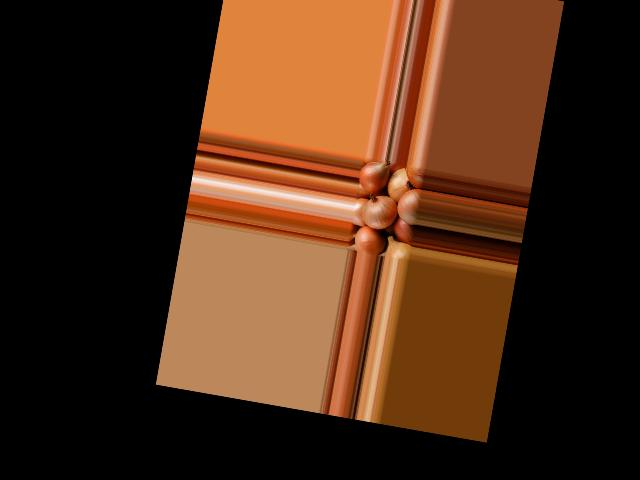onion: (351, 195, 372, 228)
